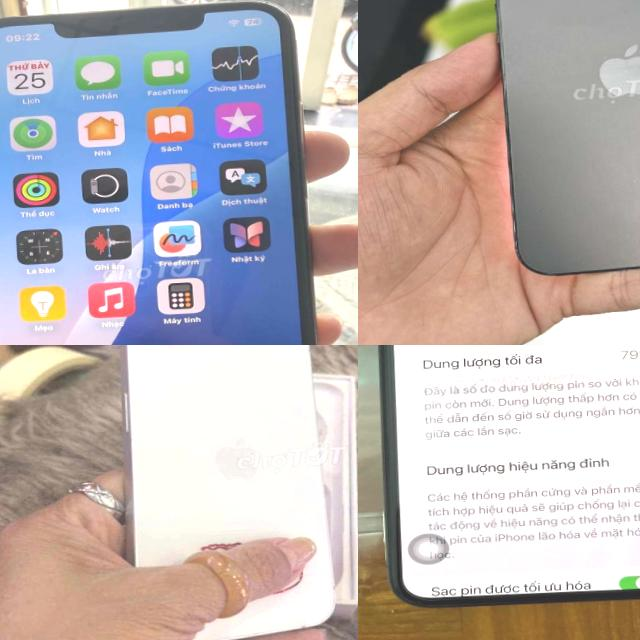gen_11: (358, 345, 640, 620)
gen_14: (485, 0, 640, 283)
gen_16: (121, 345, 334, 640)
gen_x_xs: (0, 0, 335, 345)
scratch: (624, 232, 635, 240)
